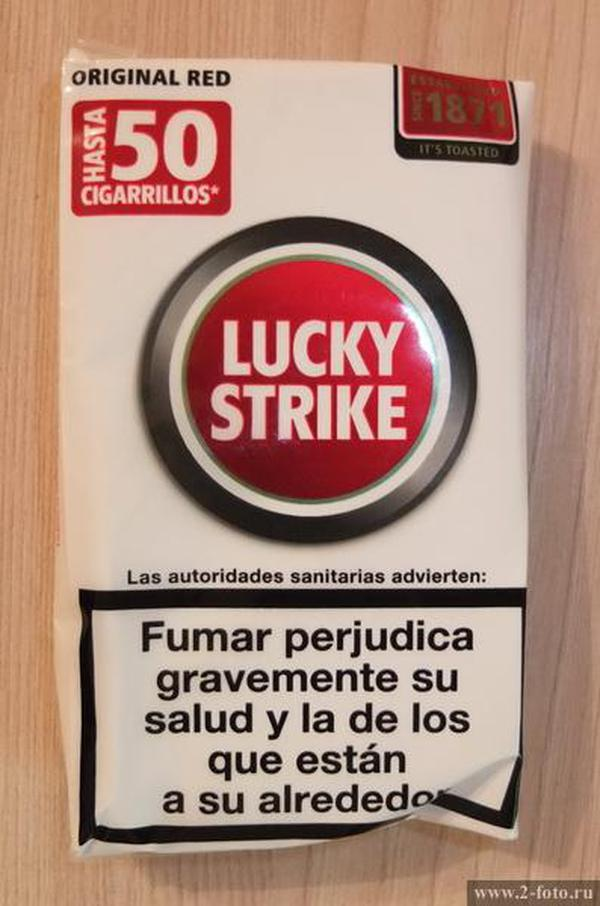lucky_strike_red: (69, 65, 529, 840)
